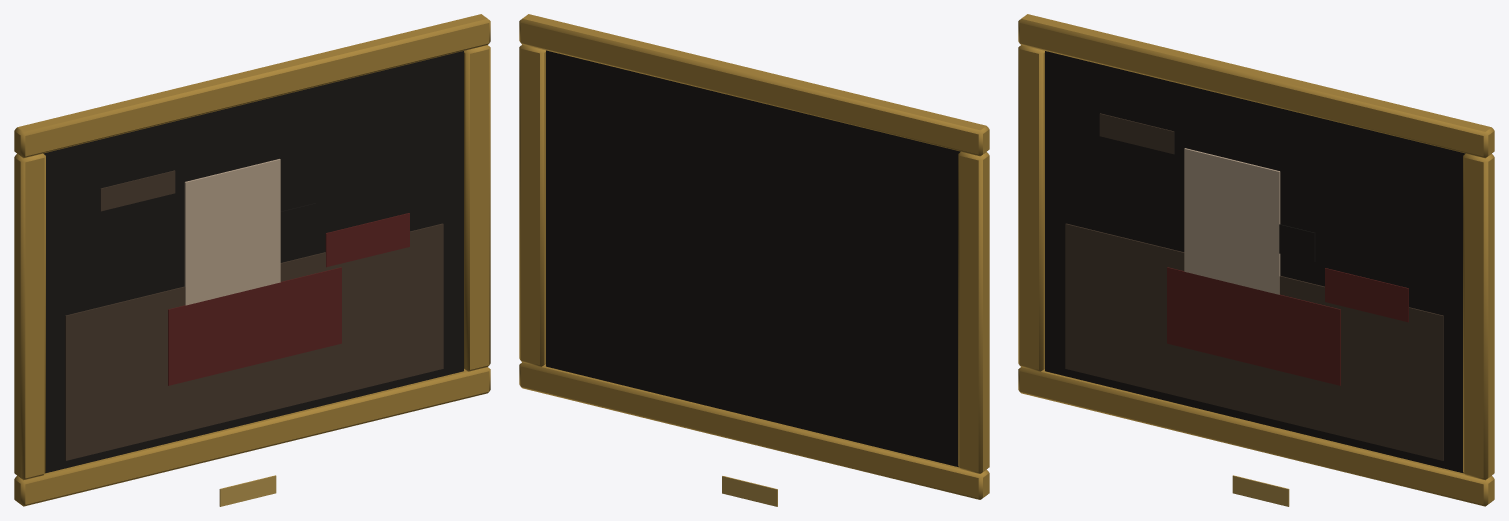
Rendered from painting_a.glb.
The picture shows the model from 3 angles, left to right: view 1: azimuth 30°, elevation 25°; view 2: azimuth 150°, elevation 25°; view 3: azimuth 330°, elevation 25°; orthographic projection.
Parts seen in each view (by area): view 1: PaintingA; view 2: PaintingA; view 3: PaintingA.
Boxes of the visible parts, left/top/right/bottom form: PaintingA: left=14, top=14, right=490, bottom=506; PaintingA: left=519, top=14, right=989, bottom=506; PaintingA: left=1018, top=14, right=1494, bottom=506.
Bounding box in the file's own units: 1.68 × 1.47 × 0.06.
